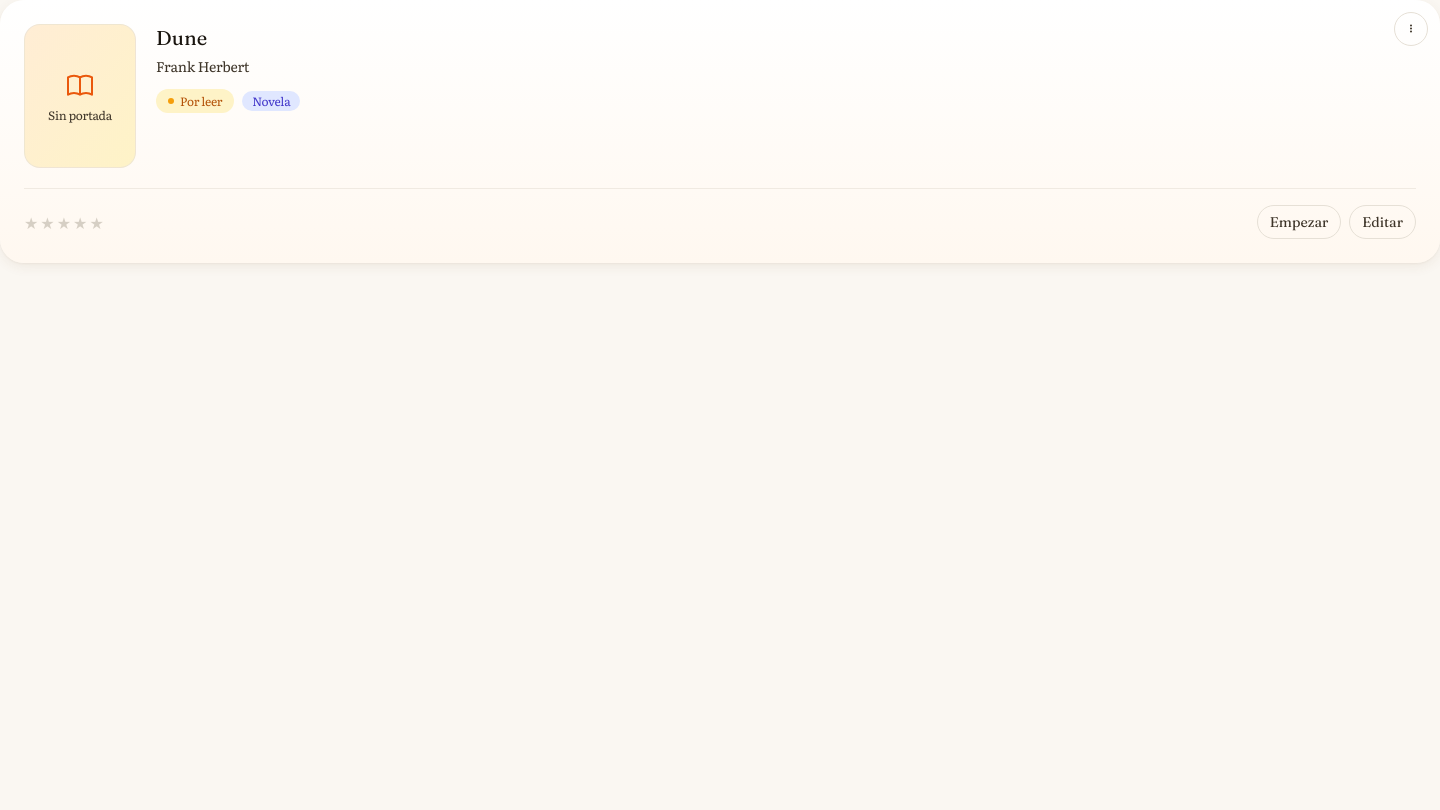
BookCard › Empezar guarda las páginas y mueve el libro a leyendo
Click the button with aria-label "Empezar Dune".
click(1299, 222)  # box top-left (1257, 205), bottom-right (1341, 239)
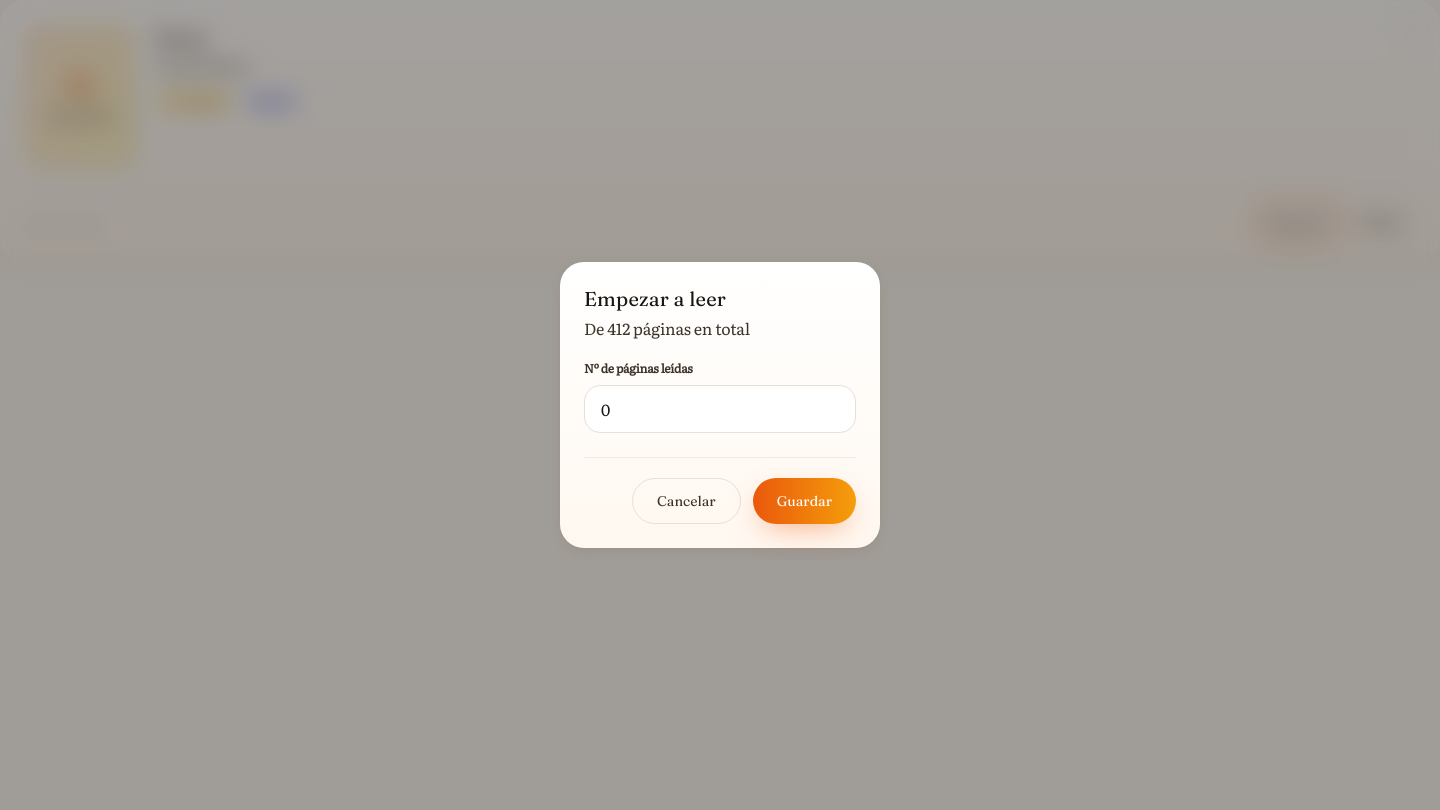
Replace the text in the number field labelled "Nº de páginas leídas" with "40" at (720, 409), box top-left (584, 385), bottom-right (856, 433)
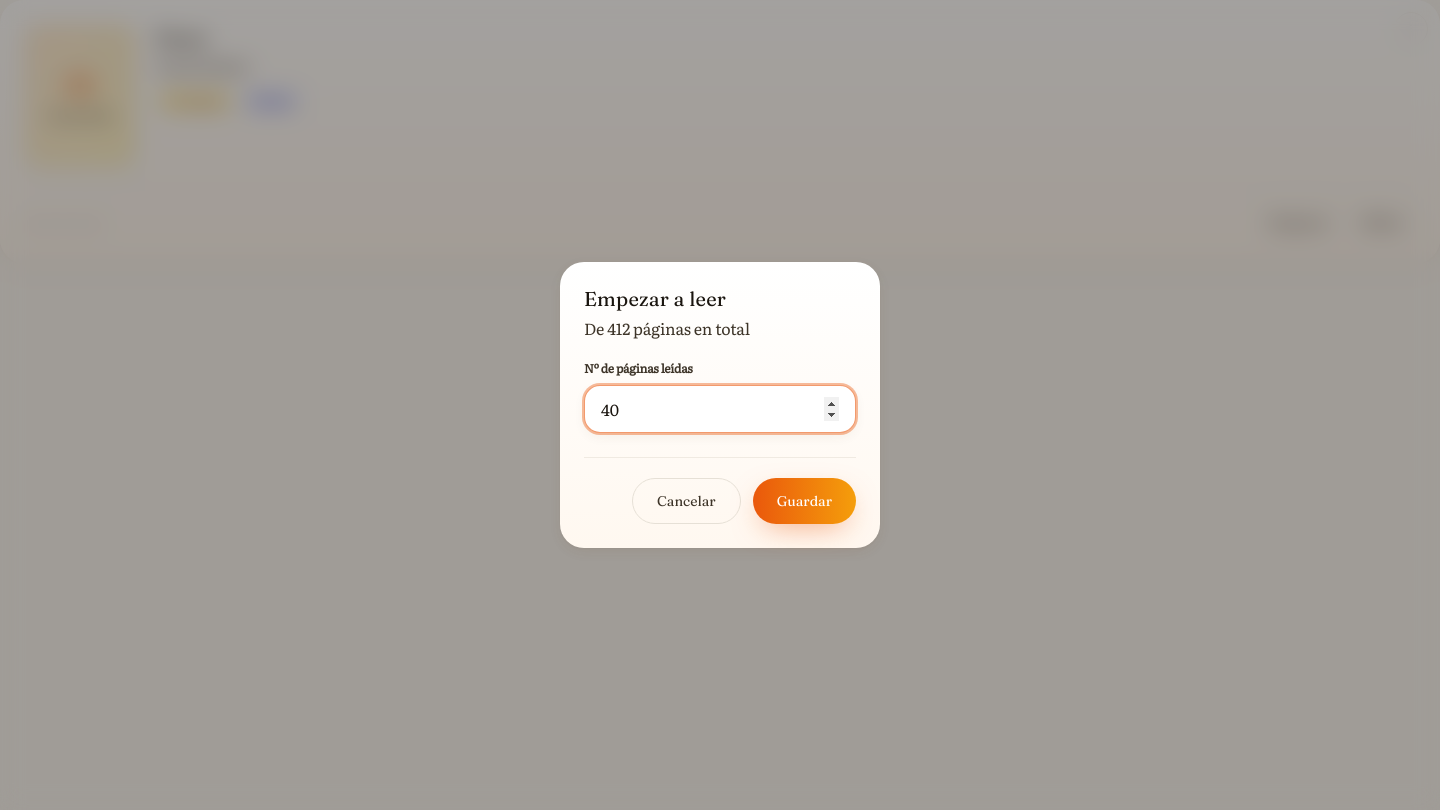
Click the button "Guardar".
click(804, 501)  # box top-left (753, 478), bottom-right (856, 524)
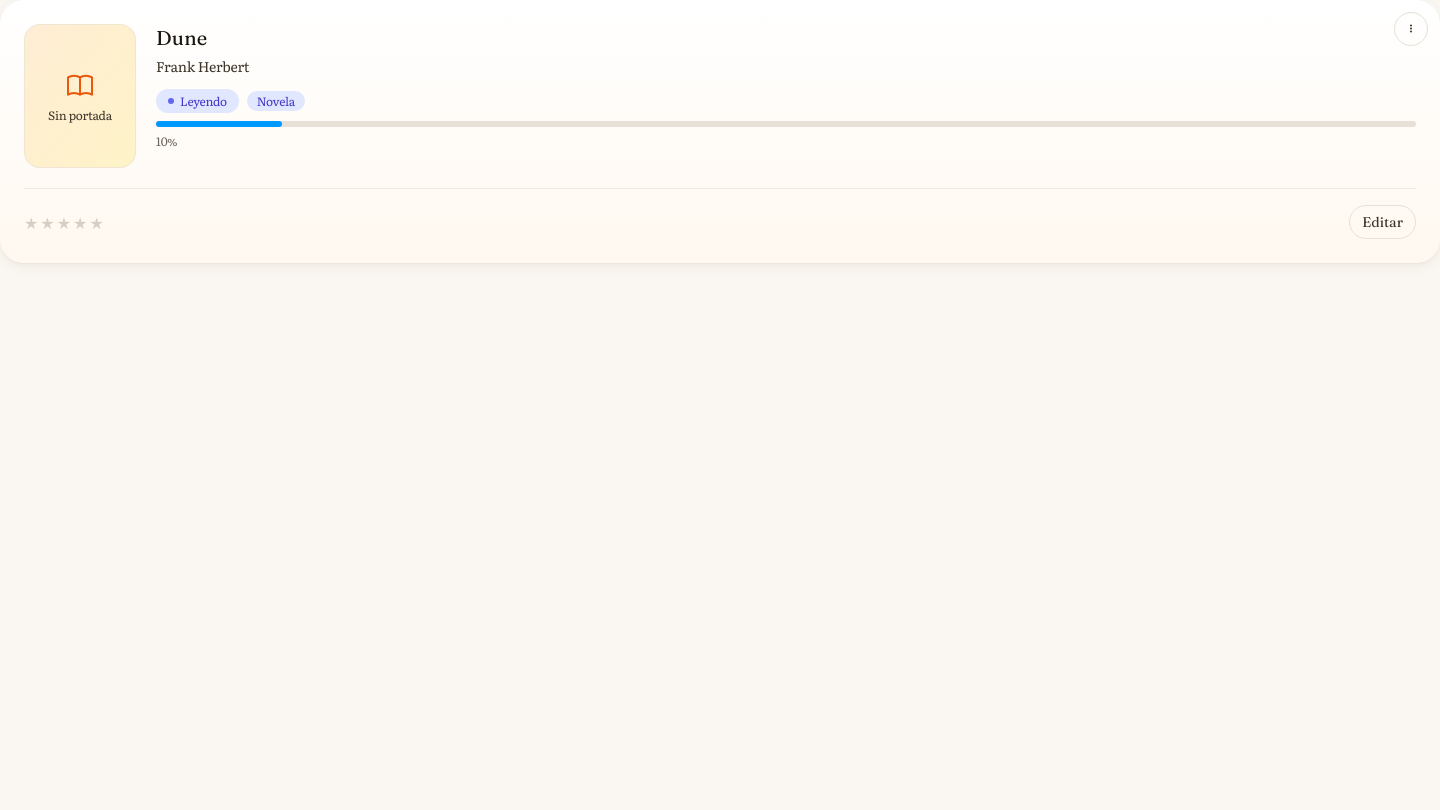
Now the text "Leyendo" is shown, box top-left (156, 88), bottom-right (239, 113)
